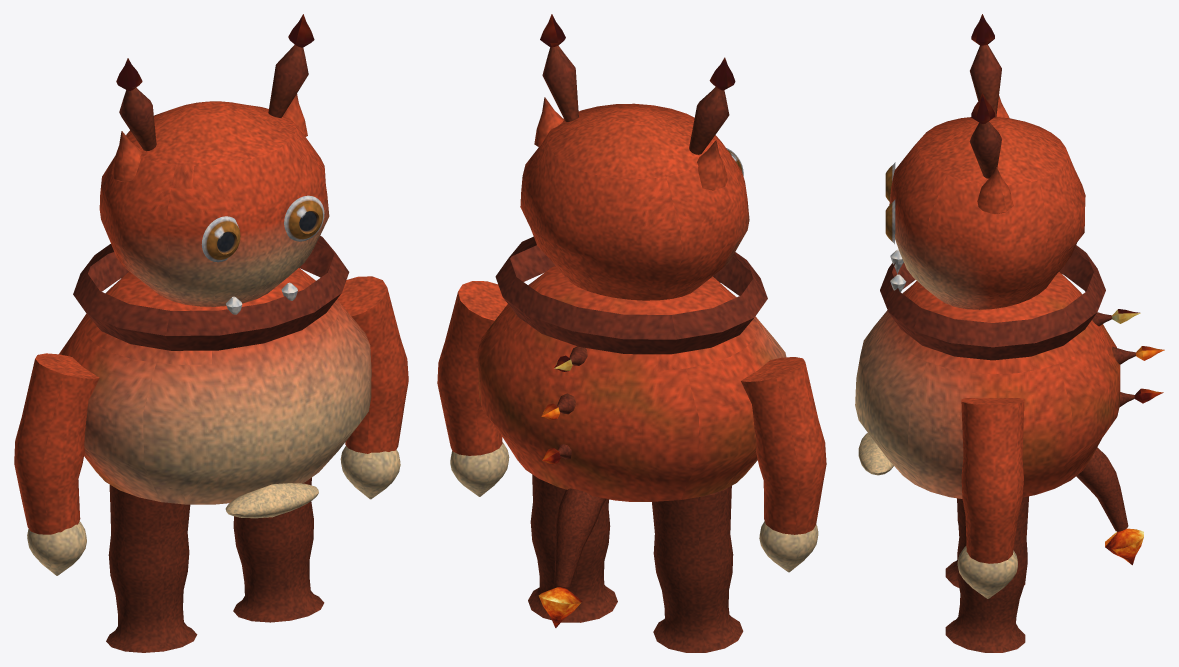
The model's file is sp_hinooni-55ek6hb4.glb.
3 views of the same model, side by side, from view 1: azimuth 30°, elevation 25°; view 2: azimuth 150°, elevation 25°; view 3: azimuth 270°, elevation 25° (orthographic). The views are drawn at different scales.
Parts seen in each view (by area): view 1: Torso, HeadMesh, Arm-1, Ruff, Leg-1, Arm1, Leg1, Horns, BellyScales, Flame; view 2: Torso, HeadMesh, Ruff, Arm-1, Leg-1, Arm1, Leg1, Horns, TailMesh, TailFlame, Flame, BackVents (+1 smaller); view 3: Torso, HeadMesh, Arm1, Ruff, Leg1, Horns, TailMesh, TailFlame, Flame, BellyScales, VentFlames, BackVents.
Boxes of the visible parts, x1,y1,x2,y2 form: Torso: (59,268,371,504); HeadMesh: (99,94,329,314); Arm-1: (14,353,99,575); Ruff: (73,236,349,350); Leg-1: (106,485,197,652); Arm1: (337,276,408,499); Leg1: (233,477,324,622); Horns: (119,44,308,151); BellyScales: (225,483,318,518); Flame: (116,14,314,90); Torso: (477,265,786,501); HeadMesh: (520,97,749,300); Ruff: (495,236,767,354); Arm-1: (741,357,826,572); Leg-1: (652,486,743,652); Arm1: (437,281,509,496); Leg1: (528,474,617,622); Horns: (542,45,729,154); TailMesh: (554,488,606,587); TailFlame: (538,587,582,627); Flame: (540,14,735,90); BackVents: (557,346,587,459); Torso: (855,272,1120,498); HeadMesh: (885,95,1085,309); Arm1: (957,398,1024,598); Ruff: (880,245,1105,360); Leg1: (945,496,1028,652); Horns: (969,44,1001,178); TailMesh: (1076,447,1128,531); TailFlame: (1105,528,1143,565); Flame: (971,14,994,123); BellyScales: (858,433,893,475); VentFlames: (1112,309,1164,403); BackVents: (1092,312,1135,407).
Bounding box in the file's own units: 0.6675 × 0.9781 × 0.4938.
2 materials, 2 textured.
